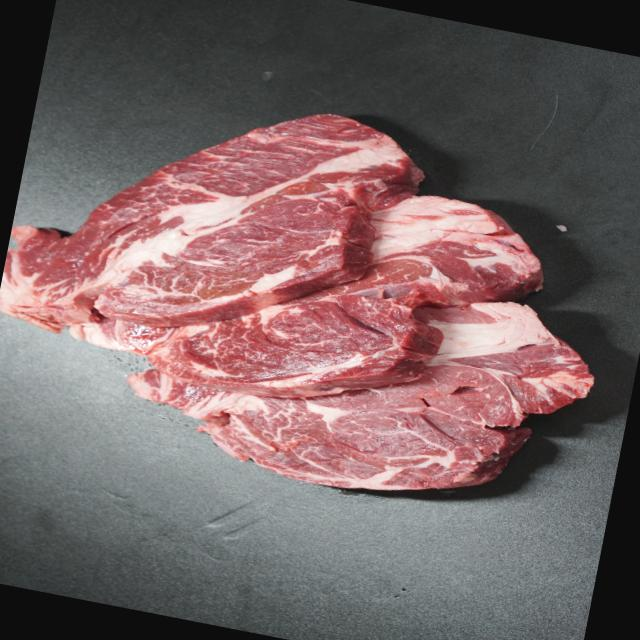beef: (83, 139, 467, 354), (180, 278, 562, 492)
